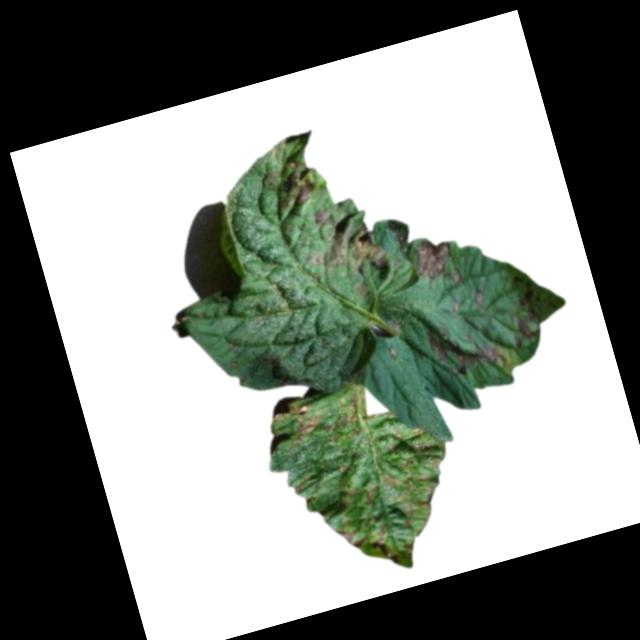Early_blight: (300, 193, 390, 284), (421, 303, 505, 382), (258, 152, 319, 213), (409, 232, 456, 285), (285, 398, 321, 439), (371, 525, 403, 570), (335, 519, 370, 554), (507, 310, 535, 349), (321, 410, 361, 435)
